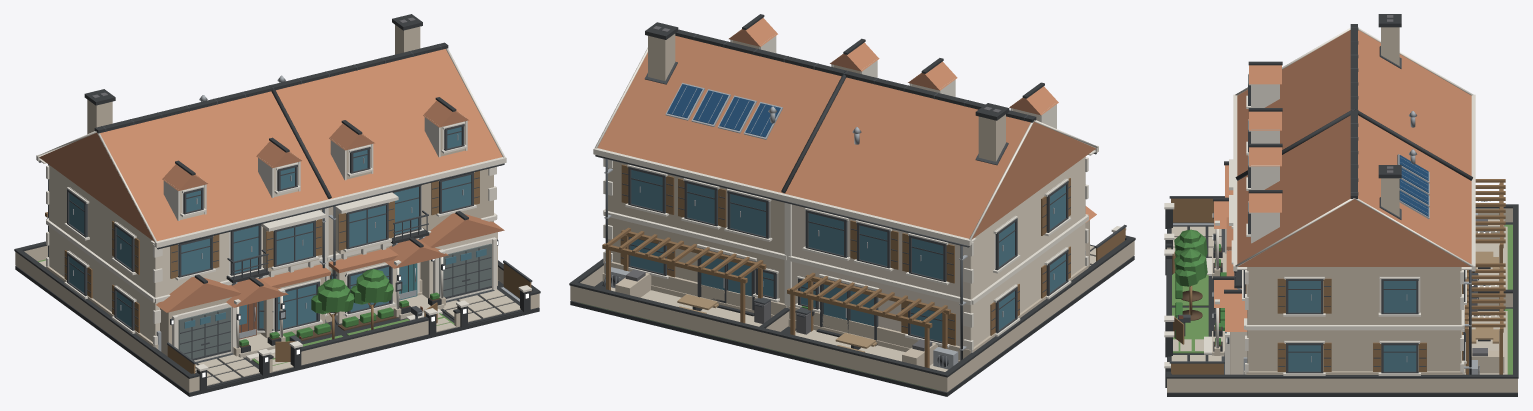
File: townhouse.glb
3 views of the same model, side by side, from view 1: azimuth 30°, elevation 25°; view 2: azimuth 150°, elevation 25°; view 3: azimuth 270°, elevation 25° (orthographic). The views are drawn at different scales.
Visible parts, largest first — view 1: Merged_TownRoof, Merged_TownTrim, Merged_VillaGranite, Merged_VillaGlass, Merged_TownStone, Merged_WindowFrame, Merged_TownPlaster, Merged_VillaWood, Merged_TownGarage, Merged_VillaPavement, Merged_VillaHedge, Merged_PropsMetal; view 2: Merged_TownRoof, Merged_TownStone, Merged_TownTrim, Merged_TownPlaster, Merged_VillaGlass, Merged_VillaGranite, Merged_VillaWood, Merged_WindowFrame, Merged_SolarCell, Merged_PropsMetal, Merged_VillaPavement, Merged_RoofDark (+1 smaller); view 3: Merged_TownRoof, Merged_TownStone, Merged_VillaGranite, Merged_TownTrim, Merged_VillaWood, Merged_VillaGlass, Merged_WindowFrame, Merged_VillaPavement, Merged_VillaLawn, Merged_VillaHedge, Merged_SolarCell, Merged_PropsMetal (+4 smaller).
Boxes of the visible parts, left/top/right/bottom form: Merged_TownRoof: left=39, top=49, right=504, bottom=312; Merged_TownTrim: left=36, top=48, right=531, bottom=371; Merged_VillaGranite: left=14, top=14, right=540, bottom=396; Merged_VillaGlass: left=69, top=127, right=486, bottom=329; Merged_TownStone: left=15, top=25, right=539, bottom=392; Merged_WindowFrame: left=38, top=44, right=532, bottom=364; Merged_TownPlaster: left=49, top=162, right=497, bottom=341; Merged_VillaWood: left=45, top=171, right=531, bottom=373; Merged_TownGarage: left=178, top=243, right=491, bottom=358; Merged_VillaPavement: left=39, top=260, right=520, bottom=385; Merged_VillaHedge: left=239, top=269, right=439, bottom=346; Merged_PropsMetal: left=47, top=75, right=519, bottom=351; Merged_TownRoof: left=597, top=18, right=1096, bottom=239; Merged_TownStone: left=570, top=34, right=1134, bottom=392; Merged_TownTrim: left=593, top=34, right=1126, bottom=352; Merged_TownPlaster: left=792, top=84, right=1085, bottom=346; Merged_VillaGlass: left=630, top=170, right=1065, bottom=341; Merged_VillaGranite: left=569, top=14, right=1135, bottom=396; Merged_VillaWood: left=602, top=164, right=1125, bottom=368; Merged_WindowFrame: left=595, top=34, right=1126, bottom=367; Merged_SolarCell: left=667, top=84, right=780, bottom=137; Merged_PropsMetal: left=604, top=82, right=1085, bottom=369; Merged_VillaPavement: left=611, top=245, right=1095, bottom=371; Merged_RoofDark: left=625, top=26, right=1001, bottom=351; Merged_TownRoof: left=1214, top=30, right=1471, bottom=331; Merged_TownStone: left=1167, top=27, right=1517, bottom=392; Merged_VillaGranite: left=1165, top=14, right=1518, bottom=396; Merged_TownTrim: left=1164, top=28, right=1475, bottom=375; Merged_VillaWood: left=1171, top=179, right=1505, bottom=374; Merged_VillaGlass: left=1225, top=281, right=1416, bottom=371; Merged_WindowFrame: left=1169, top=27, right=1490, bottom=374; Merged_VillaPavement: left=1171, top=226, right=1507, bottom=374; Merged_VillaLawn: left=1172, top=224, right=1512, bottom=374; Merged_VillaHedge: left=1174, top=229, right=1226, bottom=345; Merged_SolarCell: left=1399, top=155, right=1428, bottom=216; Merged_PropsMetal: left=1173, top=111, right=1479, bottom=374.
Size of the model in its own units: 18.87 by 11.05 by 16.36.
